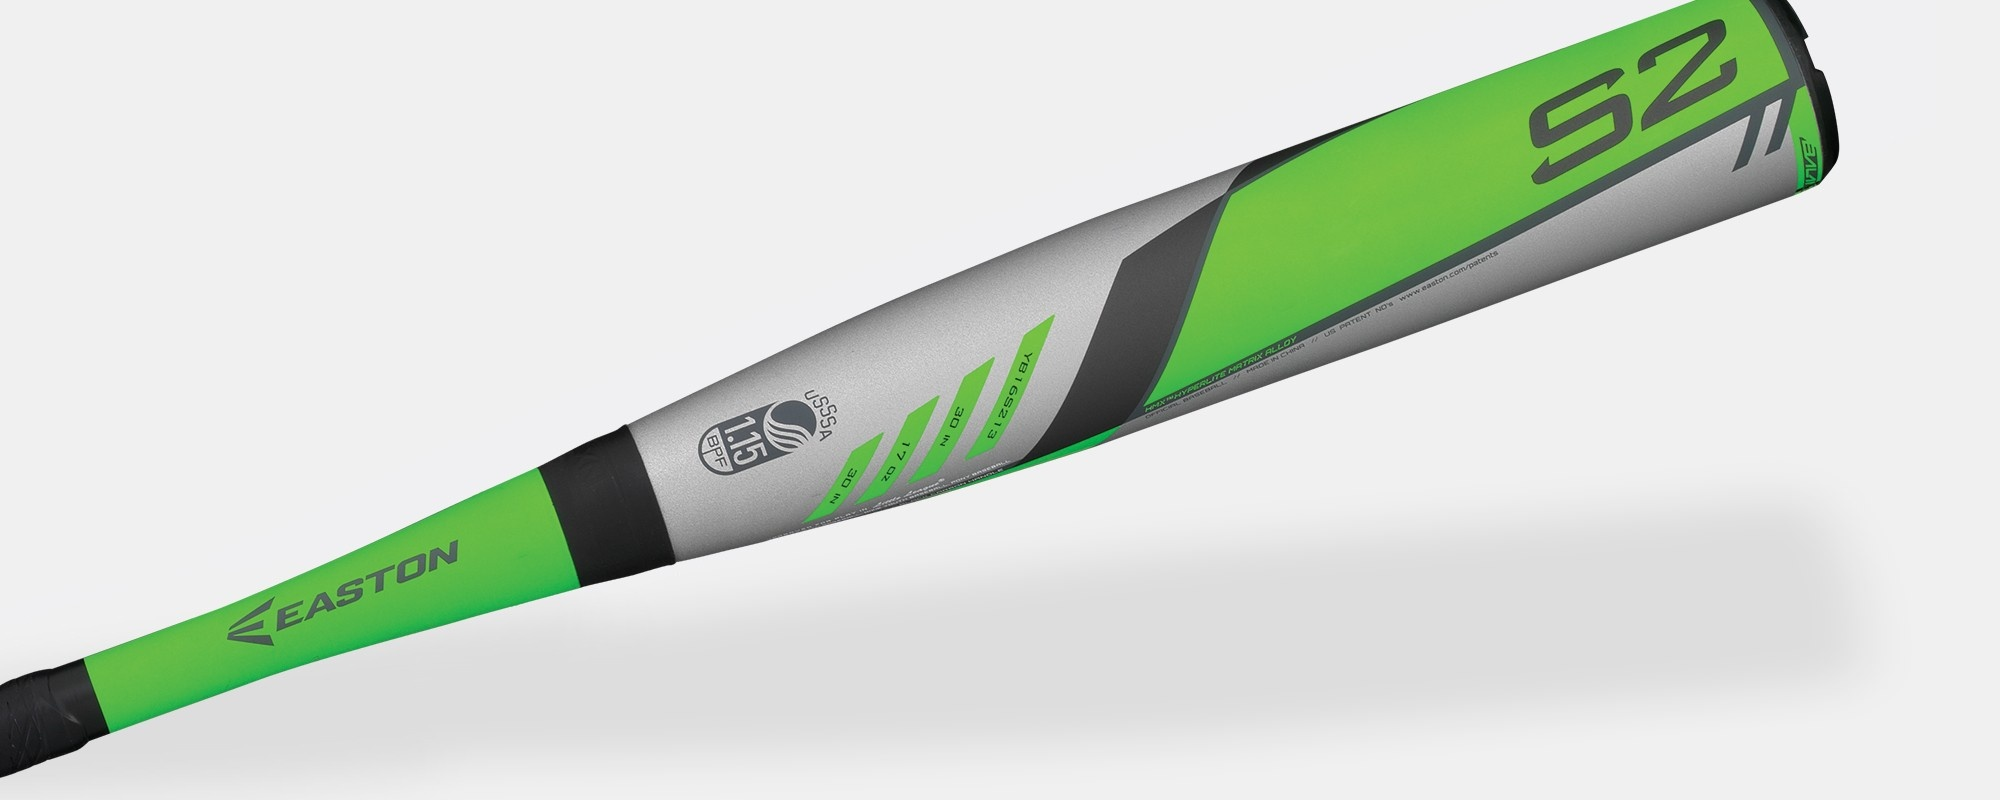bita: (1, 4, 1812, 778)
